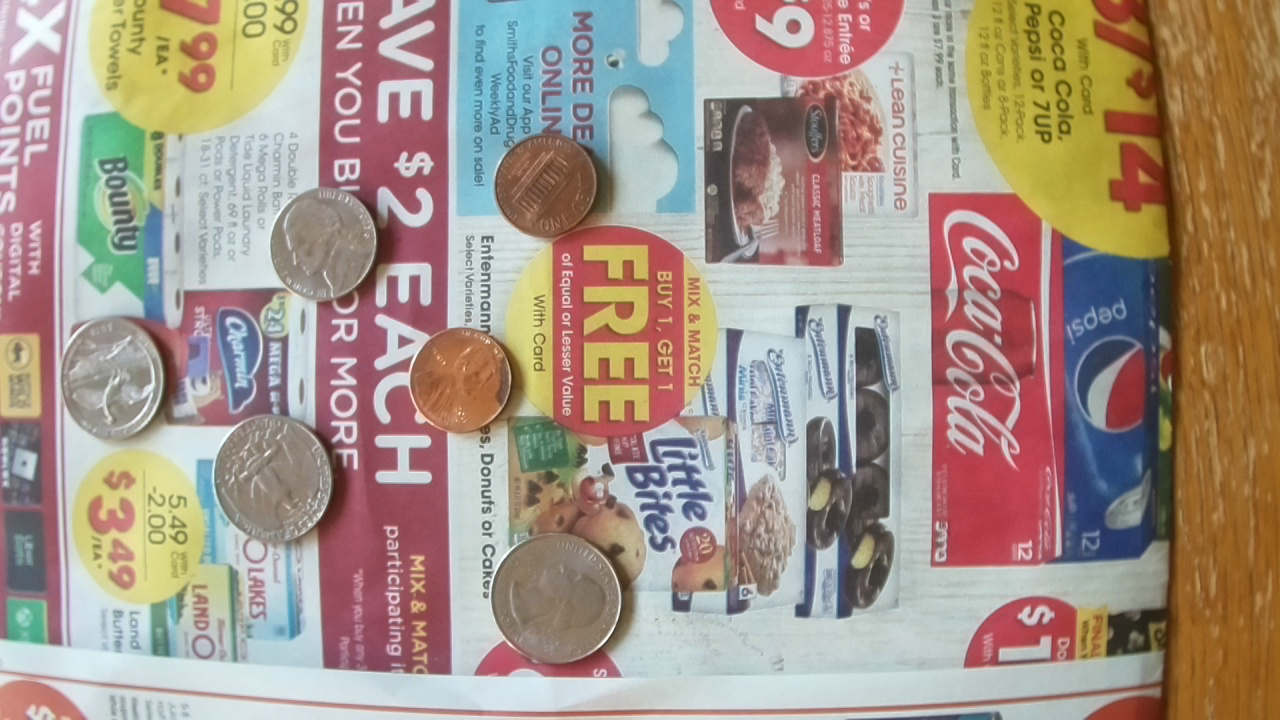nickel: (267, 185, 378, 303)
penny: (492, 132, 598, 240), (408, 328, 514, 435)
quarter: (490, 533, 624, 666), (210, 414, 335, 545), (59, 317, 167, 443)
